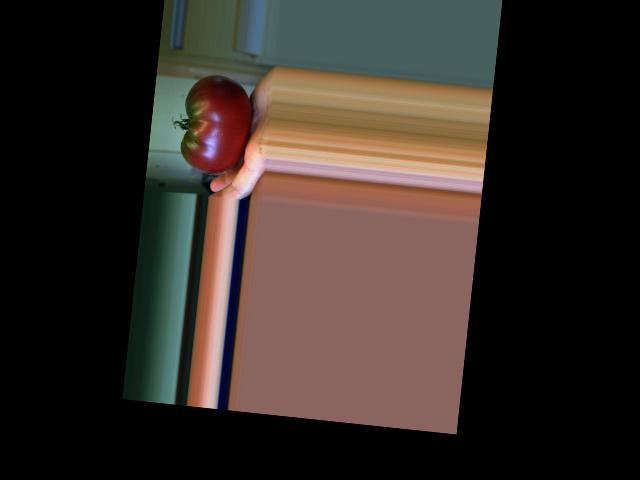tomato: (178, 72, 256, 177)
